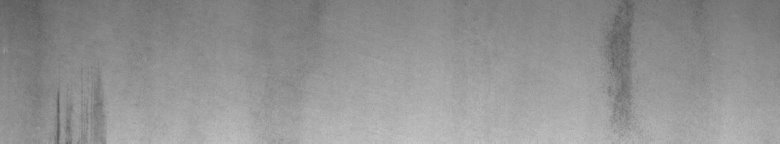ka: (52, 78, 104, 136)
